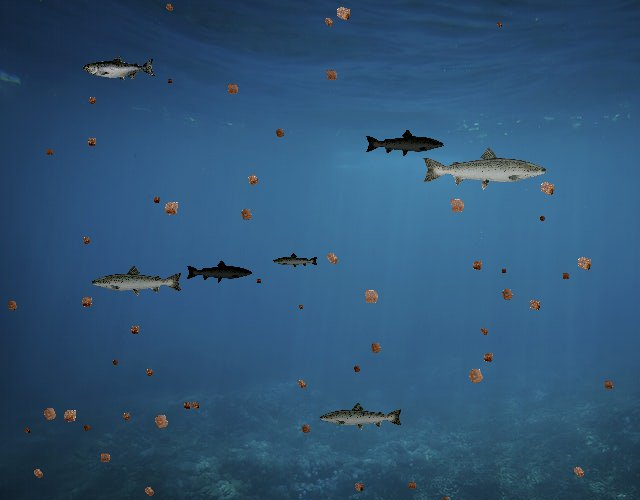Fish: (420, 145, 549, 191), (90, 264, 184, 298), (318, 401, 404, 432), (365, 128, 446, 158), (83, 55, 156, 82), (186, 260, 254, 284), (273, 252, 320, 269)
Pellet: (157, 195, 185, 223), (320, 246, 344, 270), (234, 203, 258, 227), (241, 169, 264, 192), (2, 295, 23, 316), (161, 0, 178, 16), (78, 233, 94, 249), (21, 424, 33, 436)
